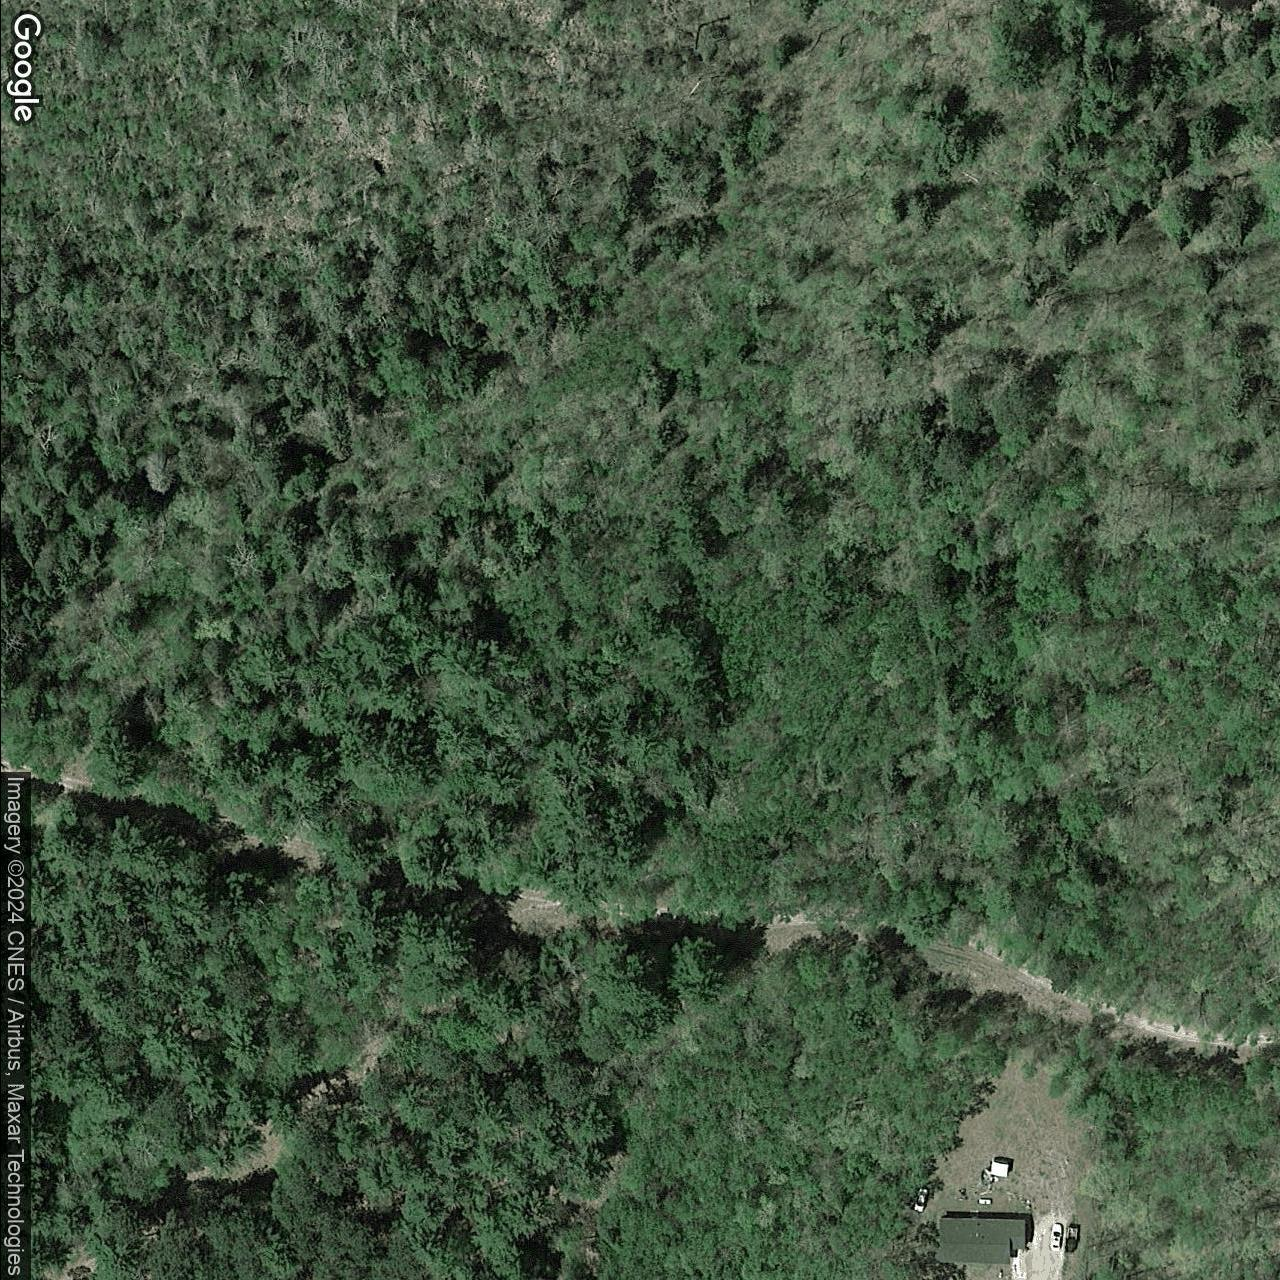House: (937, 1216, 1026, 1267)
Propane: (975, 1197, 994, 1205)
